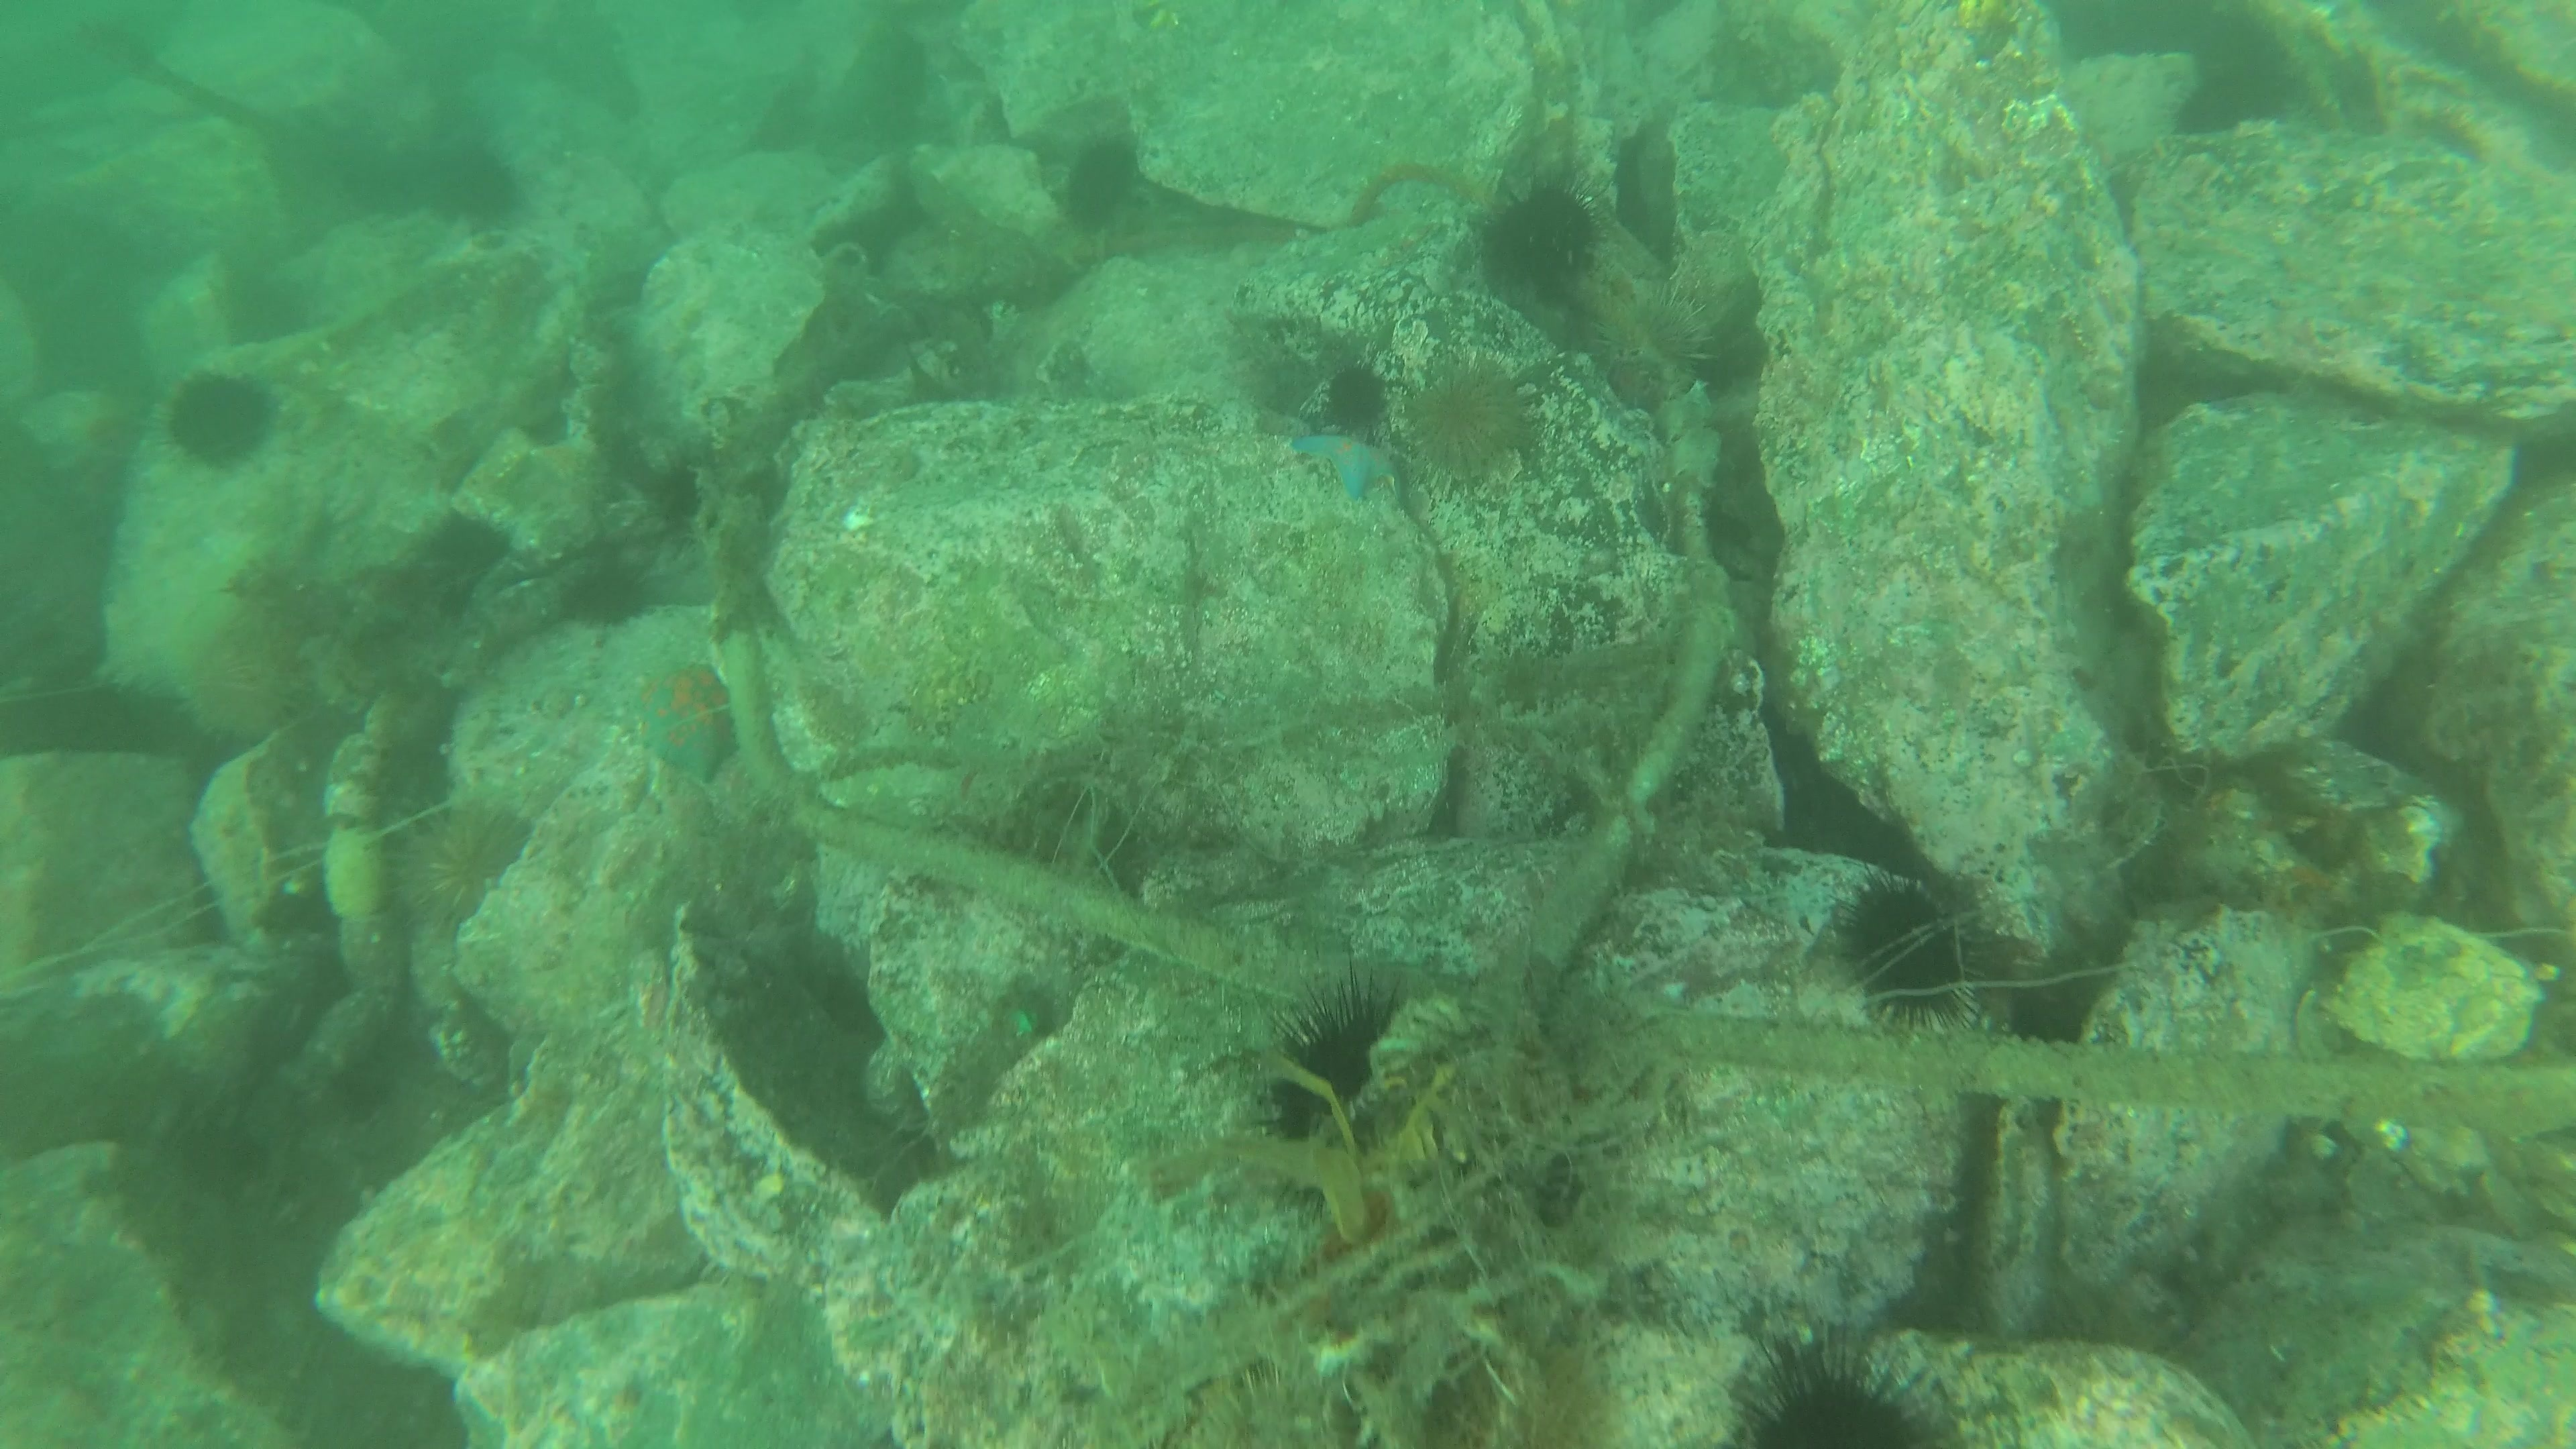echinus: (1258, 971, 1417, 1152), (1716, 1332, 1950, 1444), (1829, 872, 1983, 1021), (393, 794, 540, 938), (1398, 352, 1543, 488), (1580, 274, 1725, 410), (172, 614, 308, 754), (1474, 173, 1606, 304), (1177, 1355, 1369, 1442), (161, 364, 281, 474), (405, 504, 517, 614), (421, 136, 531, 235), (1051, 127, 1150, 235), (556, 547, 658, 633), (1313, 354, 1394, 439)
starfish: (621, 649, 745, 787), (1283, 418, 1403, 510)
